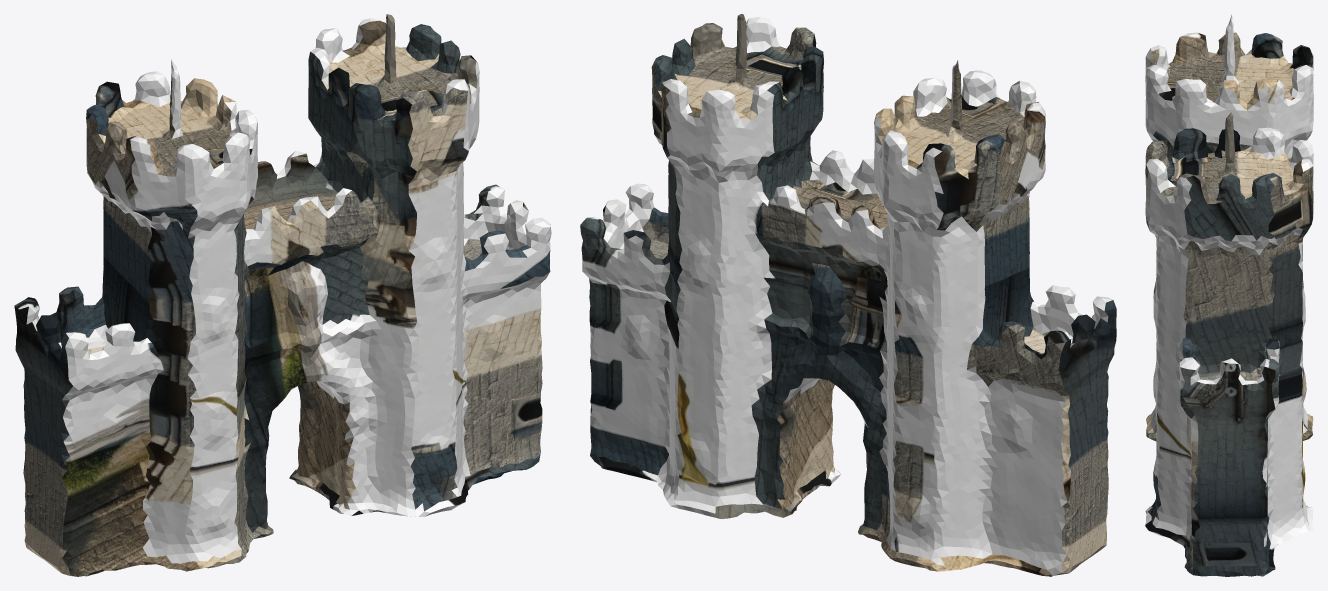
The model's file is gatehouse.glb.
3 views of the same model, side by side, from view 1: azimuth 30°, elevation 25°; view 2: azimuth 150°, elevation 25°; view 3: azimuth 270°, elevation 25° (orthographic). The views are drawn at different scales.
Visible parts, largest first — view 1: world; view 2: world; view 3: world.
Part boxes in pixels (<box>): world: <box>14,14,551,576</box>; world: <box>580,14,1116,576</box>; world: <box>1145,14,1313,576</box>.
Size of the model in its own units: 1.99 by 1.85 by 0.6794.
1 material, 1 textured.
